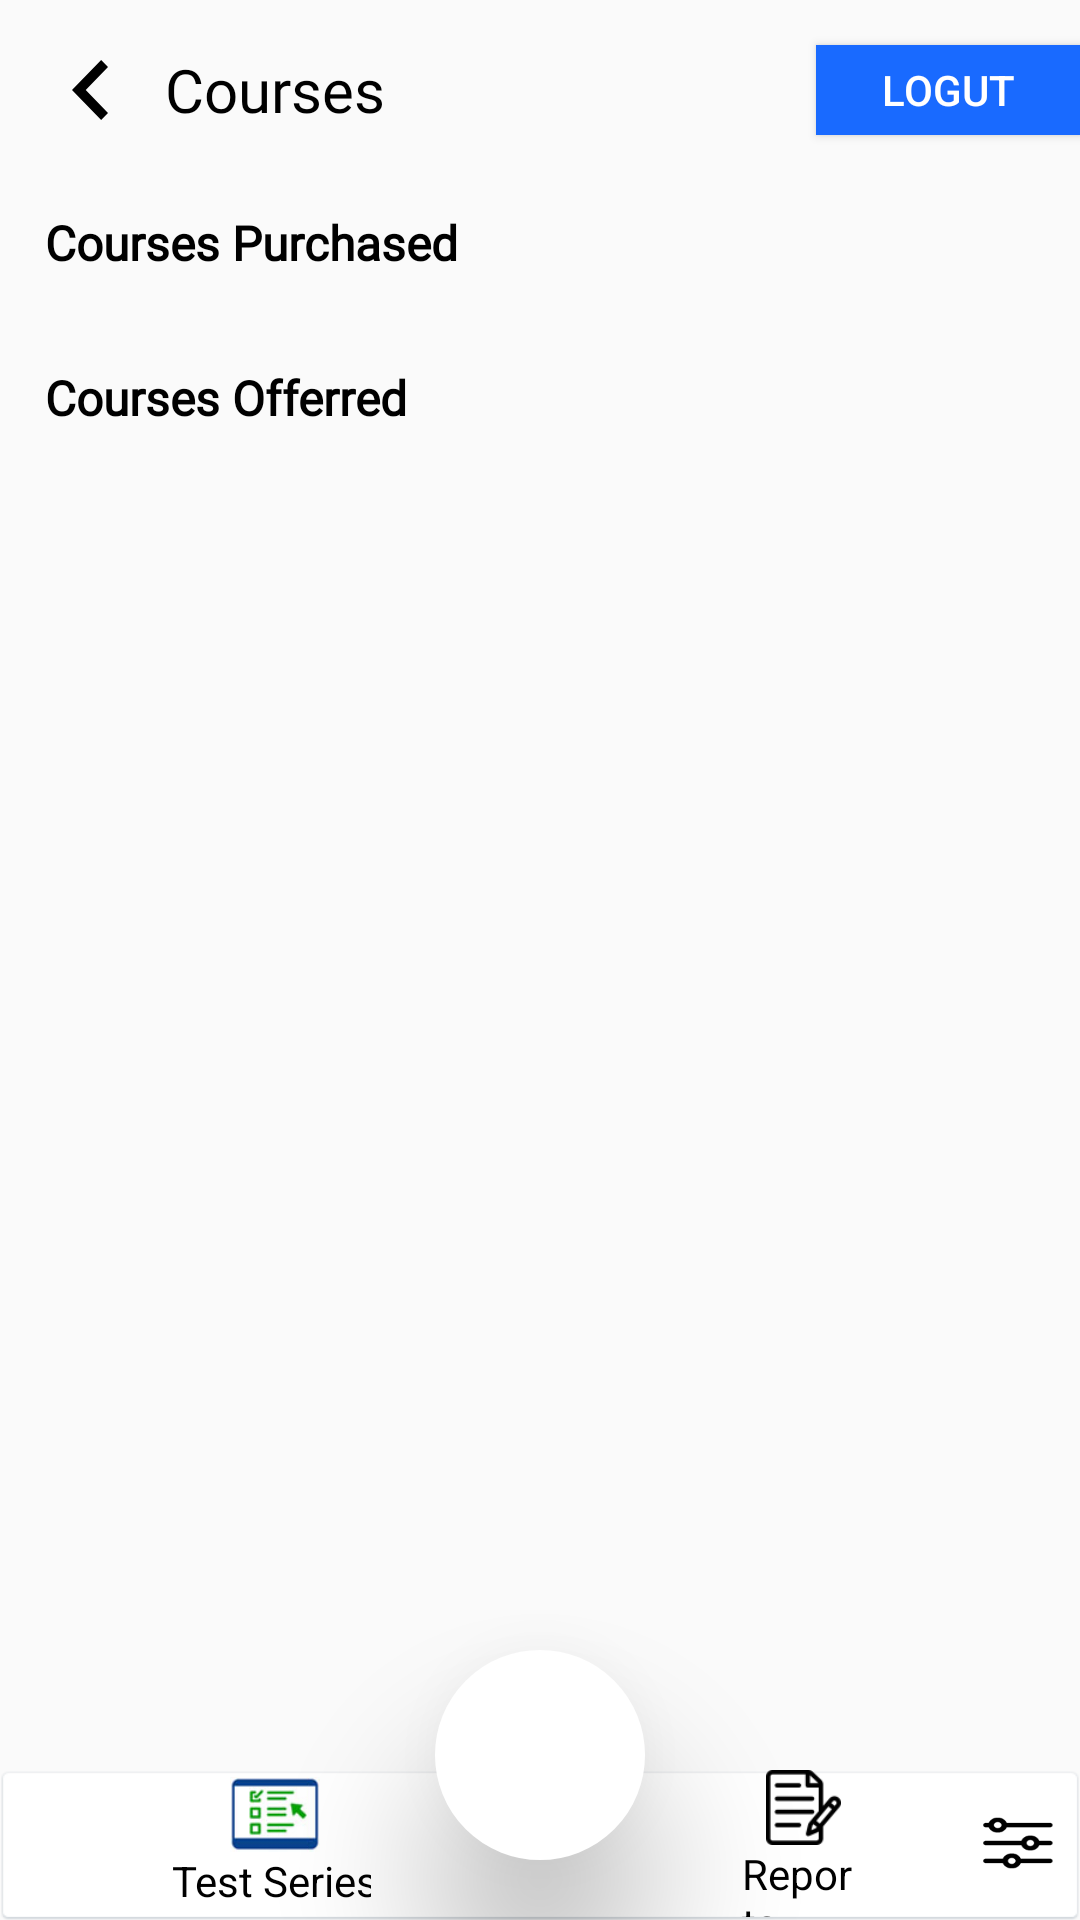

Where icons sit on this 1080x1920 app screen, as (x1, y1, x2, y2):
back arror: (72, 60, 108, 120)
notes: (766, 1770, 841, 1845)
